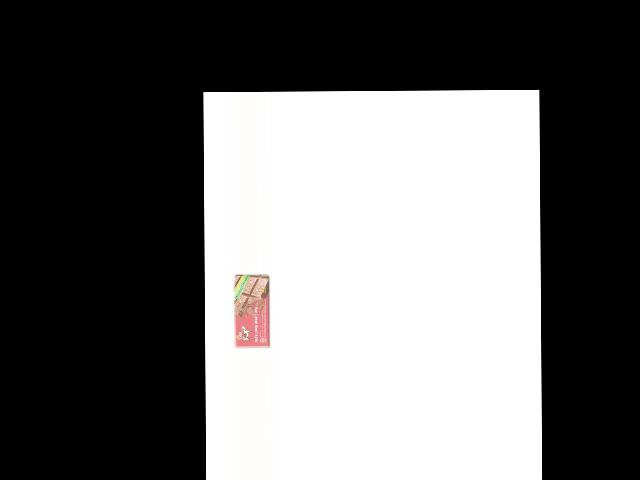chocolate: (232, 274, 271, 349)
